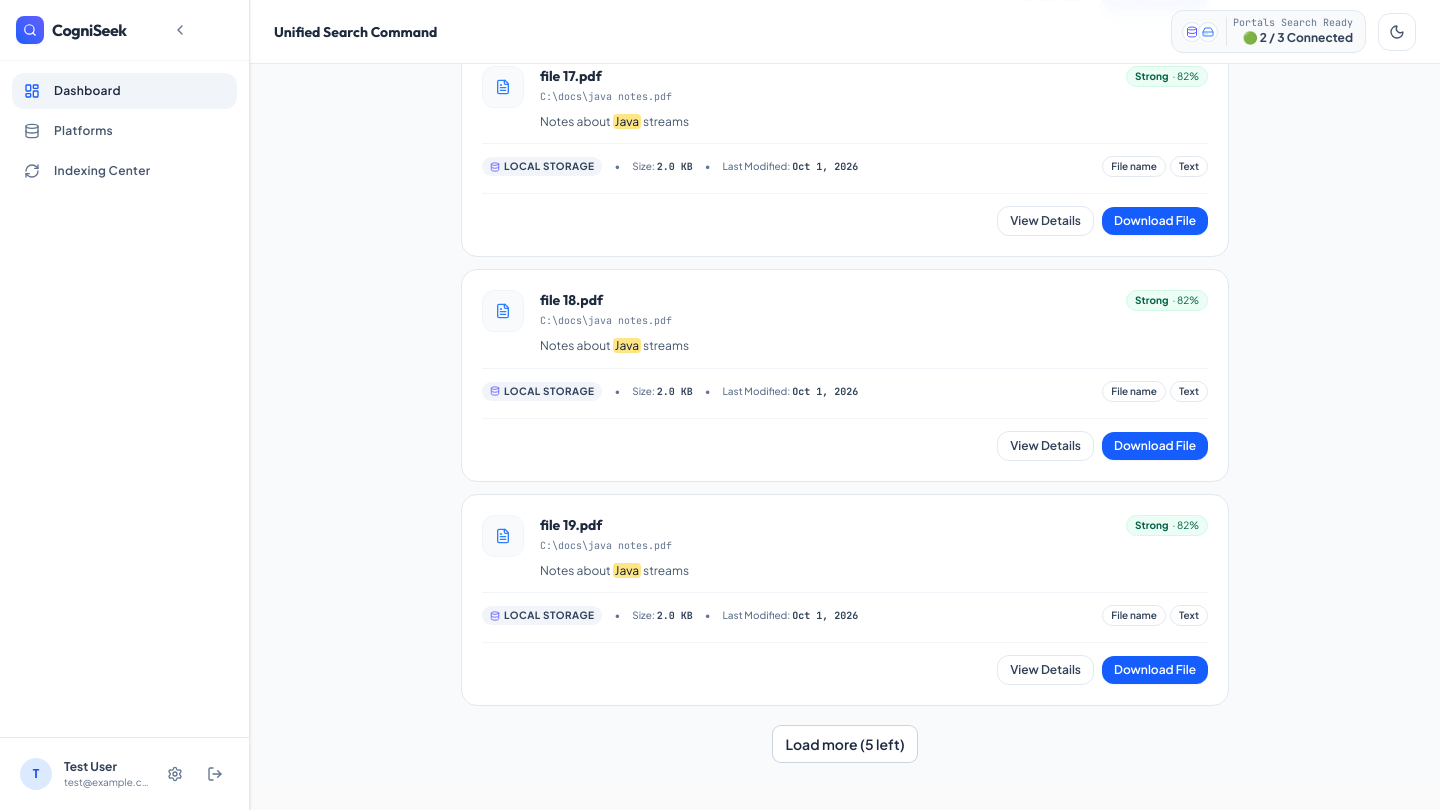
Test: search › loads more results with offset/limit
(page scrolled)
Click the button "Load more (5 left)" at (845, 744), box [773,726,917,762]
(page scrolled)
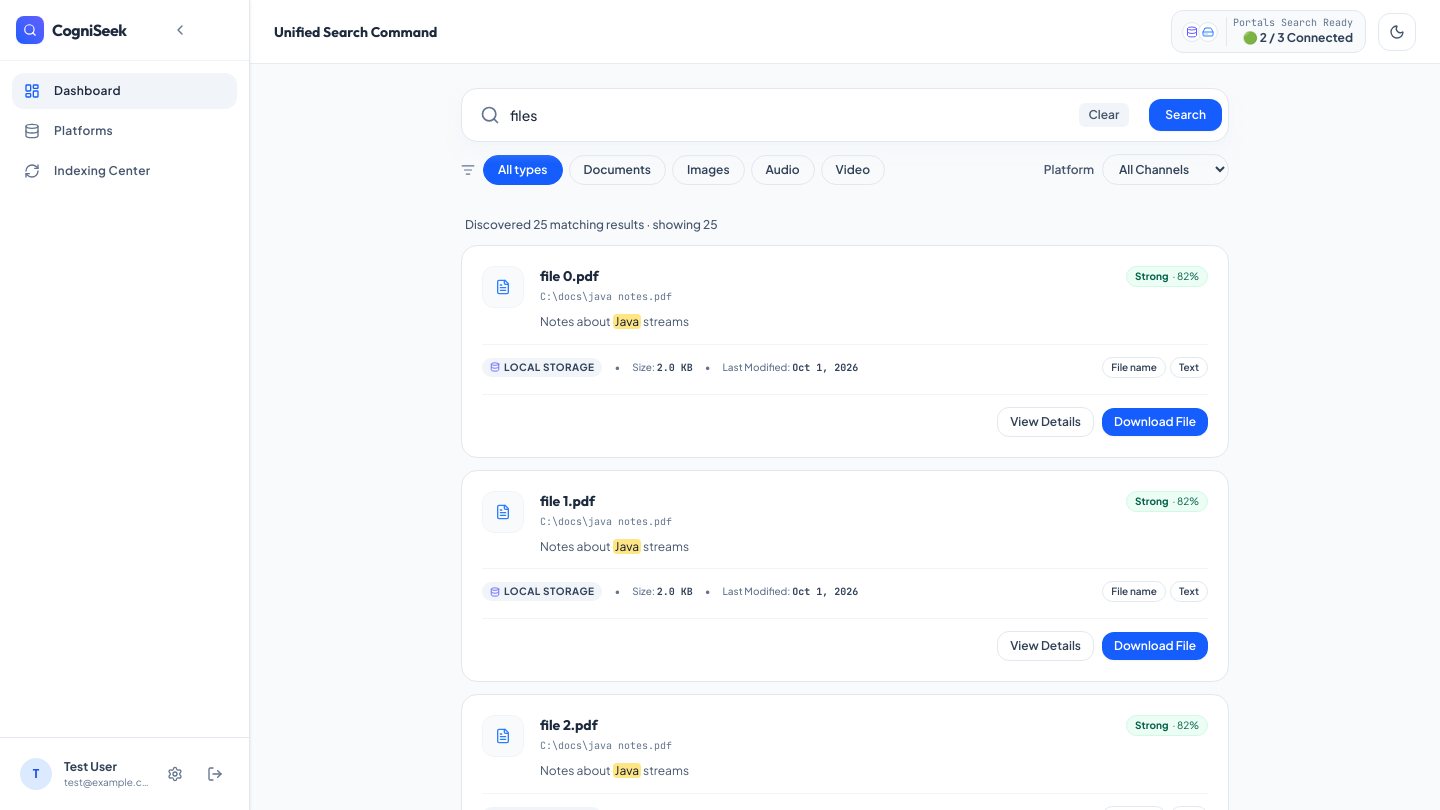
Result: the text "Discovered 25 matching results · showing 25" is shown at [465,217,718,232]
Result: the button "Load more" is gone
